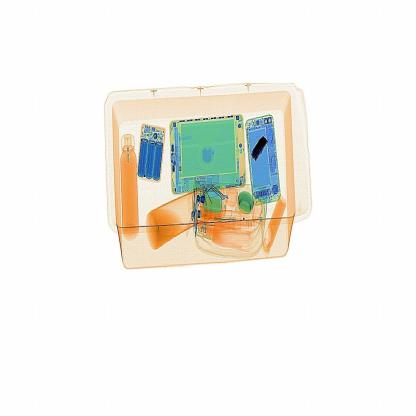scissors: (247, 126, 279, 168)
